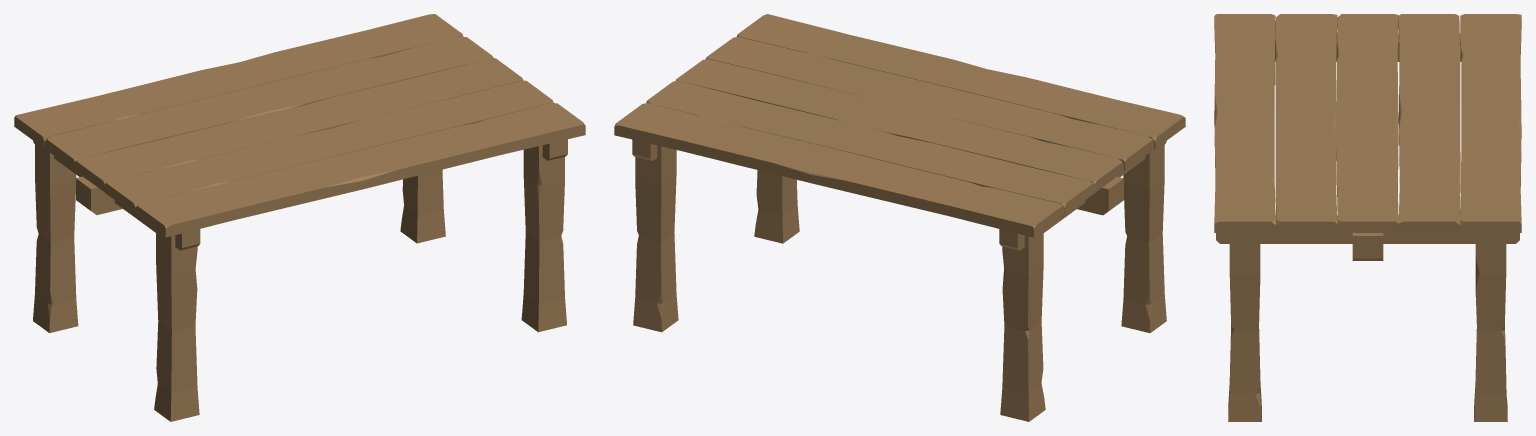
File: table.glb
The picture shows the model from 3 angles, left to right: view 1: azimuth 30°, elevation 25°; view 2: azimuth 150°, elevation 25°; view 3: azimuth 270°, elevation 25°; orthographic projection.
Parts seen in each view (by area): view 1: Table; view 2: Table; view 3: Table.
Part boxes in pixels (left/top/right/bottom): Table: left=14, top=14, right=585, bottom=421; Table: left=614, top=14, right=1185, bottom=421; Table: left=1214, top=14, right=1521, bottom=421.
Bounding box in the file's own units: 1.65 × 0.74 × 1.
